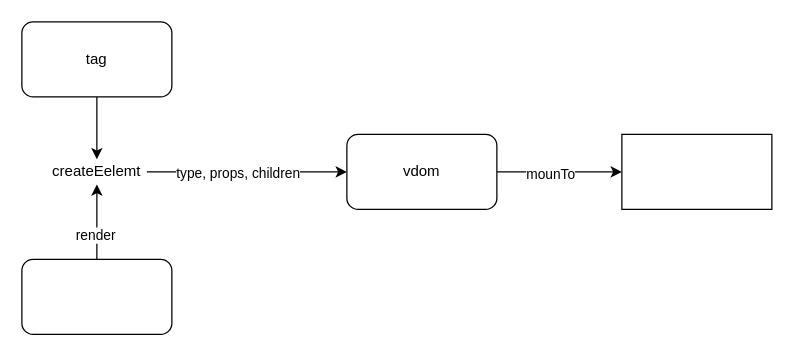
Some shapes in this 794 by 356 pixel diagram are drawn without their labels. Here are the shapes that lost their labels. From the top down, the centre of each, then its label:
point (696, 171): dom
point (96, 296): Component
